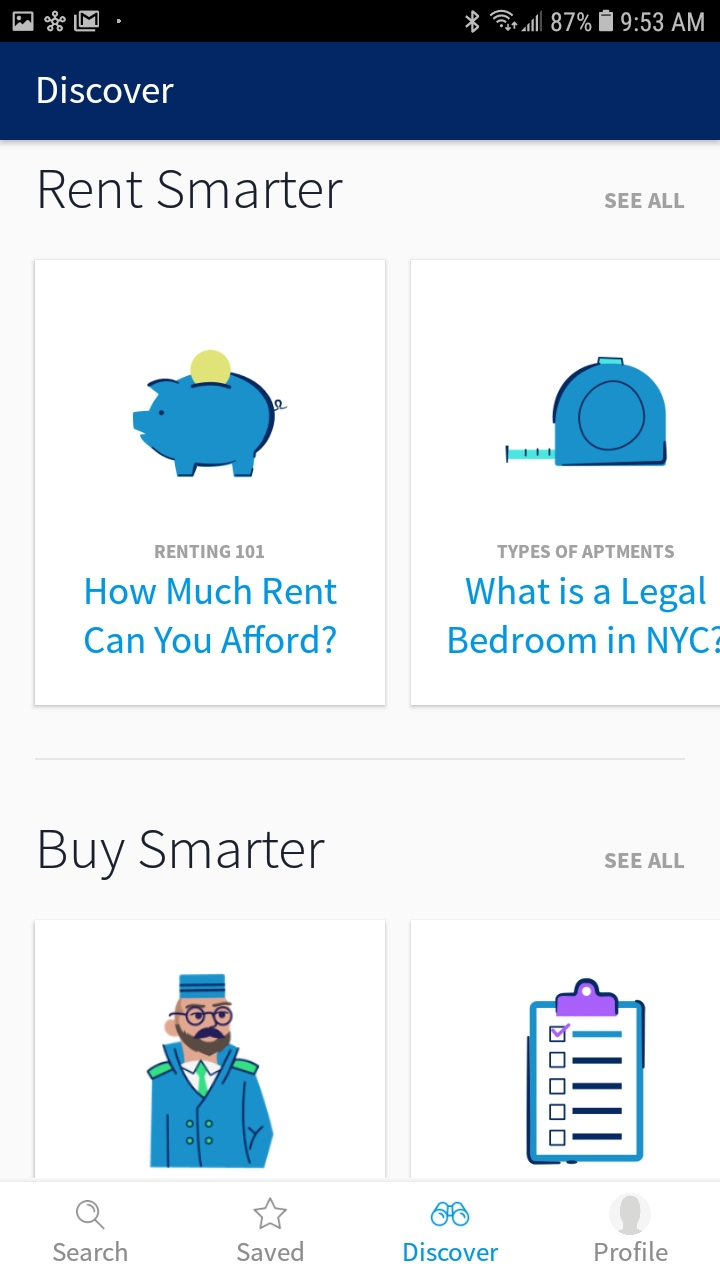Icon: (609, 1194, 651, 1236), (253, 1197, 288, 1230), (76, 1199, 106, 1230)
Image: (147, 974, 274, 1169), (526, 978, 646, 1164), (133, 350, 287, 477), (505, 357, 668, 467), (430, 1201, 470, 1227)
Text: (449, 577, 720, 655), (85, 576, 339, 654), (40, 829, 326, 881), (40, 170, 344, 210), (39, 76, 176, 105), (497, 544, 675, 559), (404, 1242, 499, 1262), (156, 544, 266, 559), (594, 1241, 669, 1262), (54, 1241, 129, 1262), (237, 1240, 304, 1262), (604, 193, 685, 210), (605, 854, 684, 869)
UpperTaskBar: (1, 1, 720, 42)
